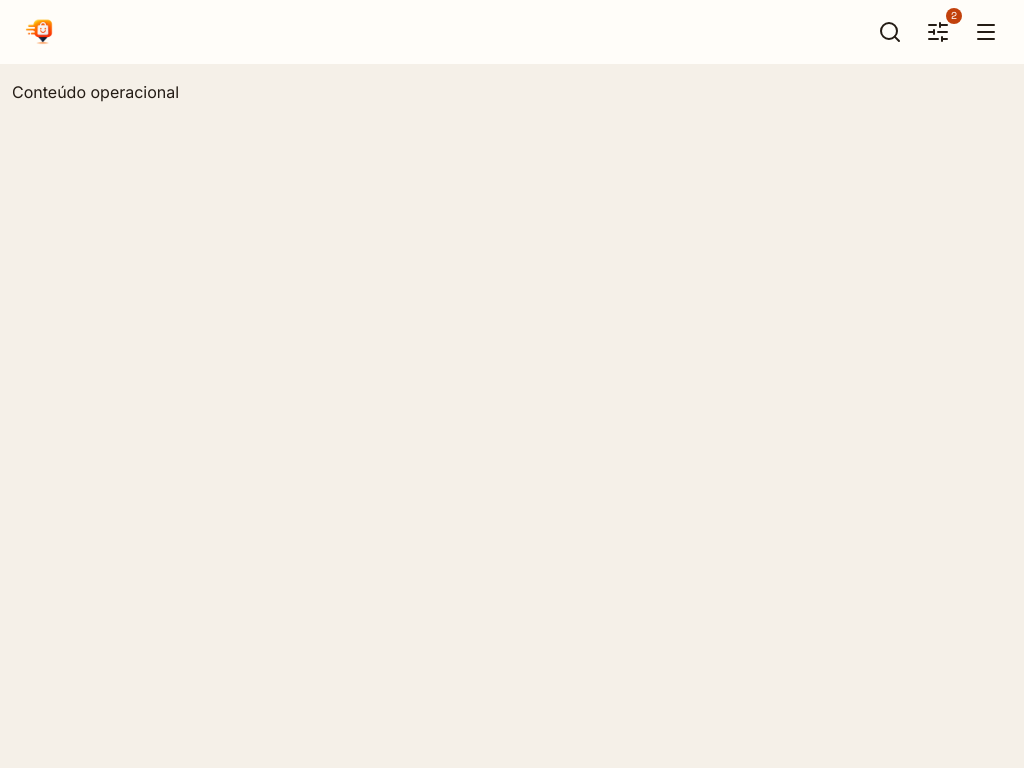
Test case: shell operacional do painel do tenant › abre a busca pela topbar compacta e compartilha o estado sem manter o campo na página
Click the button named "Buscar pedidos".
click(890, 32)  # box [868,10,912,54]
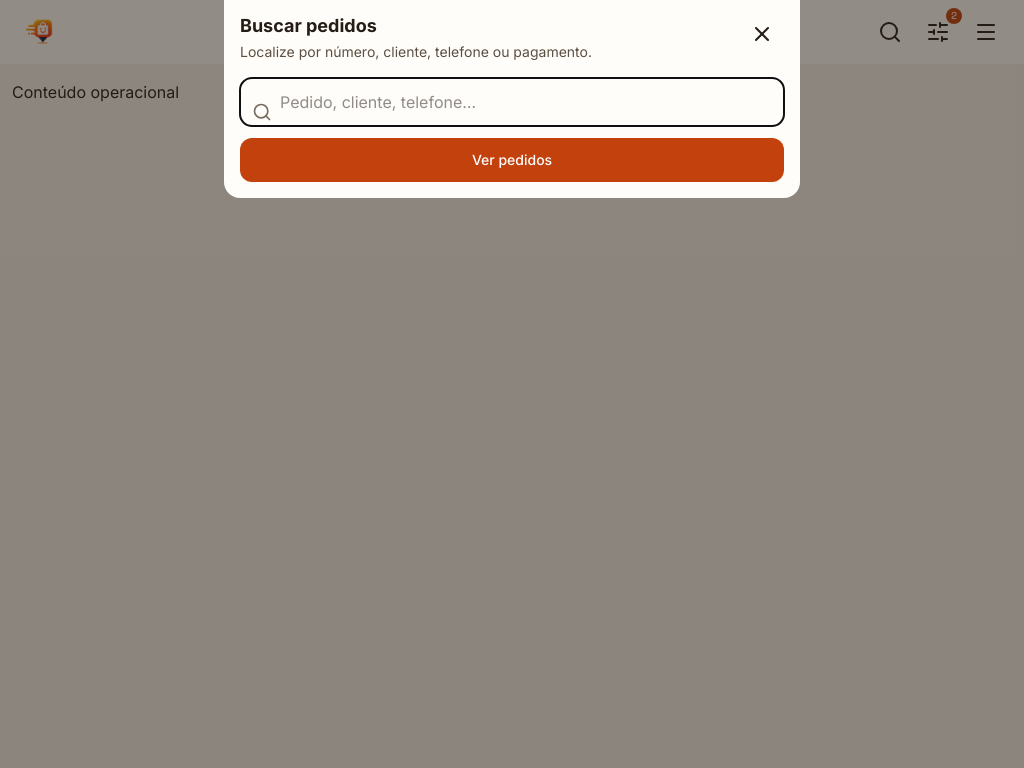
Now the button named "Buscar pedidos" is expanded, box [868,10,912,54]
Type "Mariana" into the search field with placeholder "Pedido, cliente, telefone…".
click(512, 102); type("Mariana")  # box [240,78,784,126]
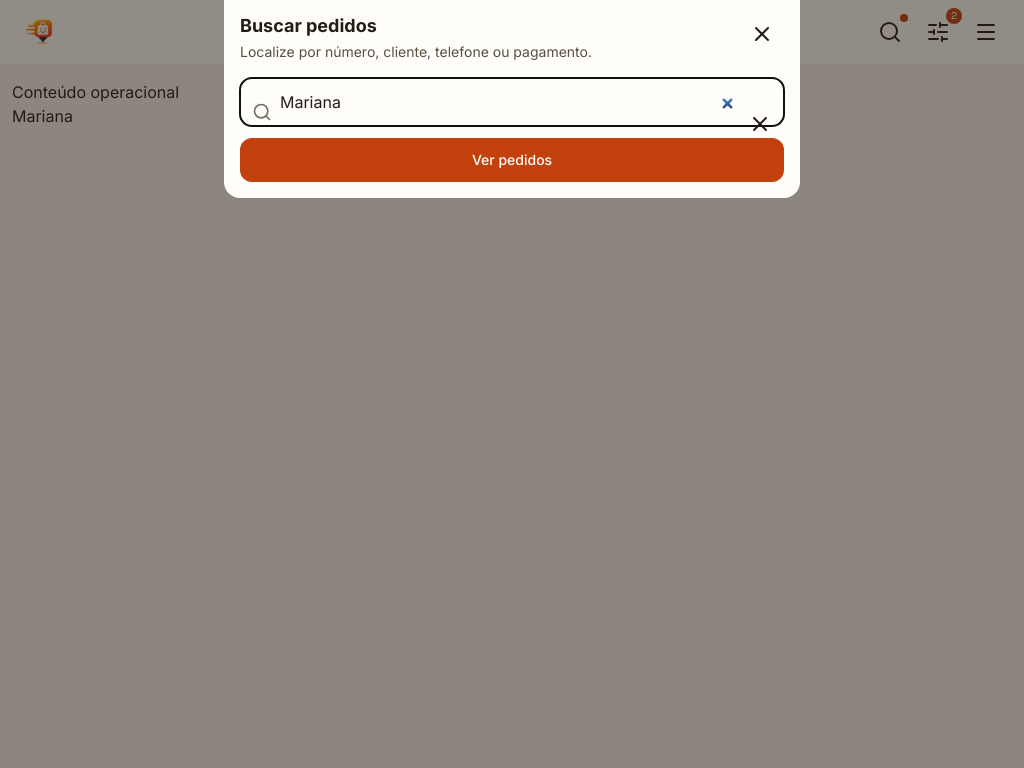
Expected: the element showing "2 Conteúdo operacional Mariana" holds "Mariana", [0,0,1023,144]
Now the text with test id "dashboard-search-value" reads "Mariana", box [12,106,73,126]
Click the button named "Limpar busca".
click(760, 124)  # box [738,102,782,146]
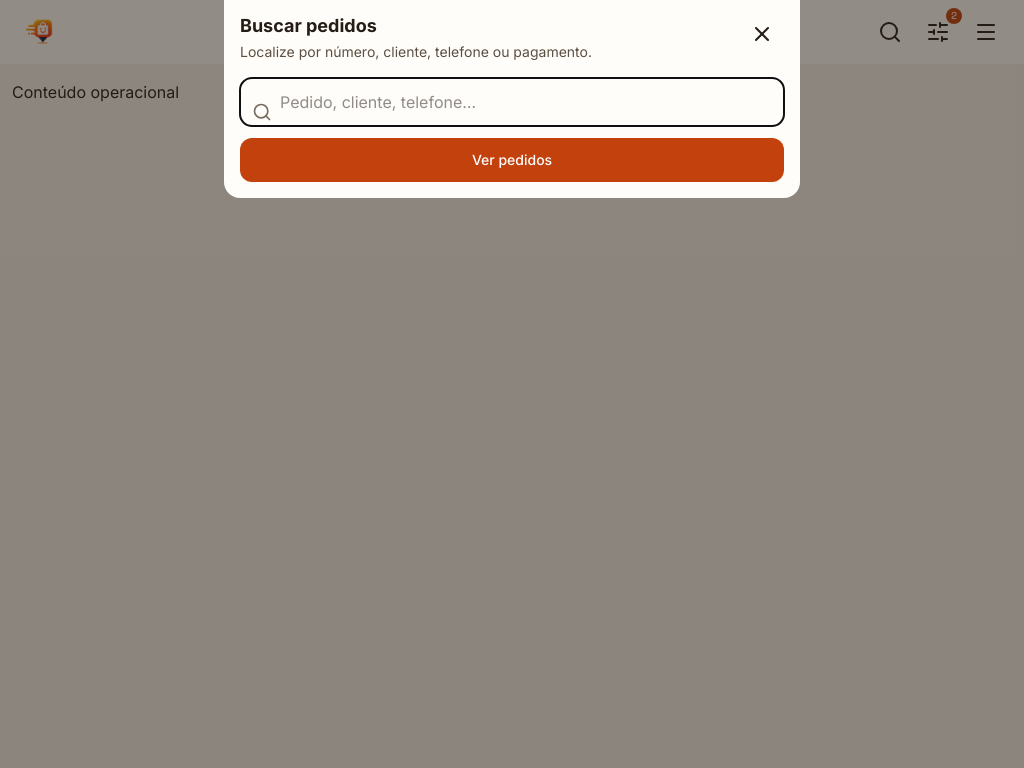
Now the search field with placeholder "Pedido, cliente, telefone…" is empty
Type "Pedido 42" into the search field with placeholder "Pedido, cliente, telefone…".
click(512, 102); type("Pedido 42")  # box [240,78,784,126]
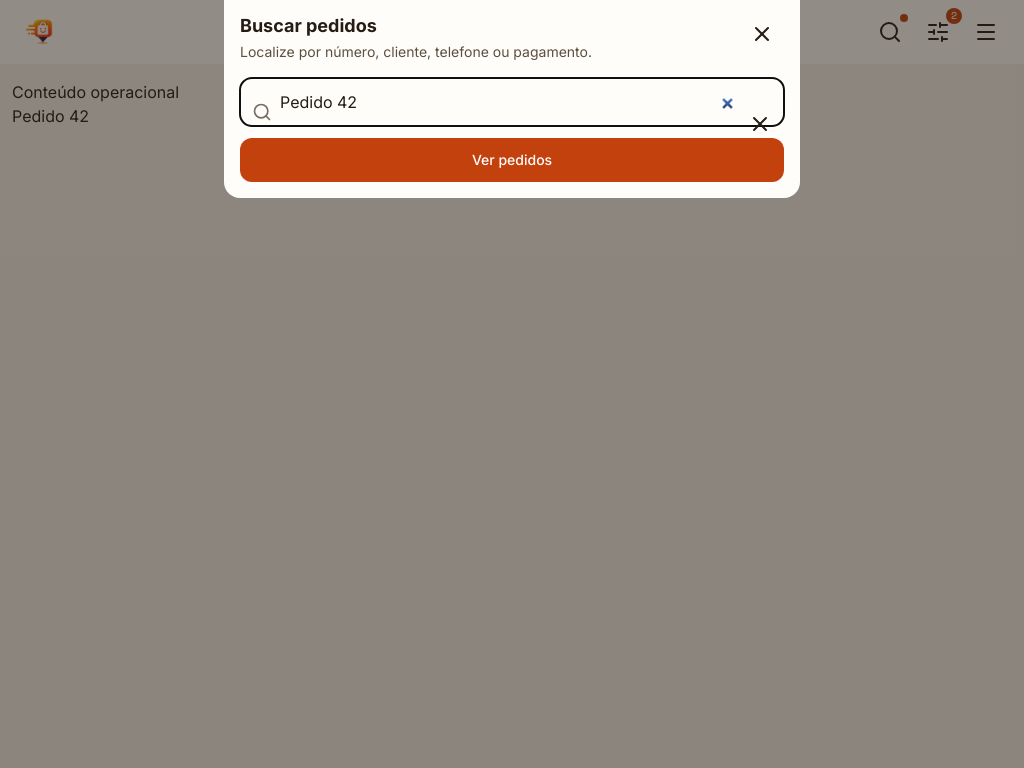
Press Escape
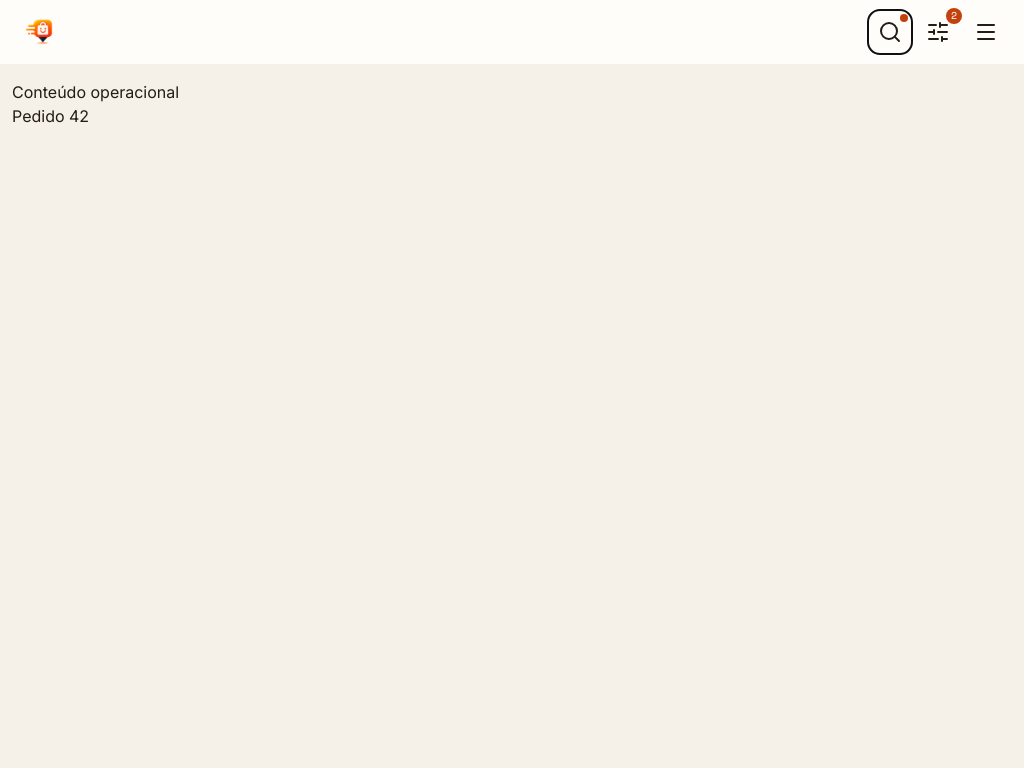
Now the text with test id "dashboard-search-value" reads "Pedido 42", box [12,106,89,126]
Now the heading "Buscar pedidos" is gone
